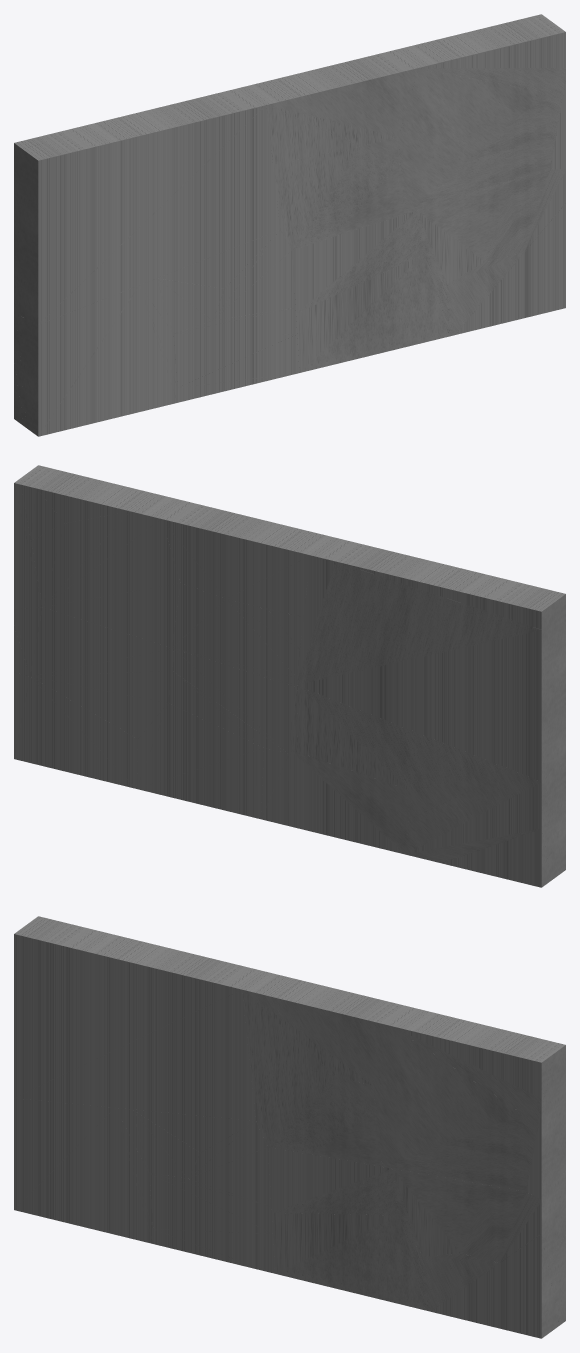
File: BreakableConcrete_broken.fbx
3 renders of one model, top to bottom at view 1: azimuth 30°, elevation 25°; view 2: azimuth 150°, elevation 25°; view 3: azimuth 330°, elevation 25°, orthographic.
Parts seen in each view (by area): view 1: BeakedBreakableConcrete_cell.003, BeakedBreakableConcrete_cell.001_cell.002, BeakedBreakableConcrete_cell.007_cell.007, BeakedBreakableConcrete_cell.007_cell.004, BeakedBreakableConcrete_cell.004_cell, BeakedBreakableConcrete_cell.007_cell.006, BeakedBreakableConcrete_cell.004_cell.002, BeakedBreakableConcrete_cell.005, BeakedBreakableConcrete_cell.004_cell.007, BeakedBreakableConcrete_cell.001_cell.003, BeakedBreakableConcrete_cell.007_cell, BeakedBreakableConcrete_cell.004_cell.004 (+10 smaller); view 2: BeakedBreakableConcrete_cell.003, BeakedBreakableConcrete_cell.007_cell.007, BeakedBreakableConcrete_cell.004_cell.007, BeakedBreakableConcrete_cell.007_cell.004, BeakedBreakableConcrete_cell.004_cell, BeakedBreakableConcrete_cell.004_cell.005, BeakedBreakableConcrete_cell.001_cell.003, BeakedBreakableConcrete_cell.001_cell.001, BeakedBreakableConcrete_cell.001_cell.007, BeakedBreakableConcrete_cell.007_cell.001, BeakedBreakableConcrete_cell.004_cell.006, BeakedBreakableConcrete_cell.001_cell.002 (+9 smaller); view 3: BeakedBreakableConcrete_cell.003, BeakedBreakableConcrete_cell.007_cell.007, BeakedBreakableConcrete_cell.001_cell.002, BeakedBreakableConcrete_cell.007_cell.004, BeakedBreakableConcrete_cell.004_cell, BeakedBreakableConcrete_cell.007_cell.006, BeakedBreakableConcrete_cell.004_cell.002, BeakedBreakableConcrete_cell.005, BeakedBreakableConcrete_cell.004_cell.004, BeakedBreakableConcrete_cell.004_cell.007, BeakedBreakableConcrete_cell.001_cell.003, BeakedBreakableConcrete_cell.007_cell (+9 smaller).
Boxes of the visible parts, <box> form: BeakedBreakableConcrete_cell.003: <box>14,86,280,324</box>; BeakedBreakableConcrete_cell.001_cell.002: <box>16,285,177,436</box>; BeakedBreakableConcrete_cell.007_cell.007: <box>394,42,561,213</box>; BeakedBreakableConcrete_cell.007_cell.004: <box>245,50,418,164</box>; BeakedBreakableConcrete_cell.004_cell: <box>296,254,448,372</box>; BeakedBreakableConcrete_cell.007_cell.006: <box>417,19,565,92</box>; BeakedBreakableConcrete_cell.004_cell.002: <box>292,211,422,313</box>; BeakedBreakableConcrete_cell.005: <box>455,203,565,334</box>; BeakedBreakableConcrete_cell.004_cell.007: <box>417,181,510,283</box>; BeakedBreakableConcrete_cell.001_cell.003: <box>173,307,297,387</box>; BeakedBreakableConcrete_cell.007_cell: <box>286,137,399,249</box>; BeakedBreakableConcrete_cell.004_cell.004: <box>485,168,565,261</box>; BeakedBreakableConcrete_cell.003: <box>296,538,565,781</box>; BeakedBreakableConcrete_cell.007_cell.007: <box>31,502,182,647</box>; BeakedBreakableConcrete_cell.004_cell.007: <box>14,607,173,738</box>; BeakedBreakableConcrete_cell.007_cell.004: <box>161,501,337,616</box>; BeakedBreakableConcrete_cell.004_cell: <box>136,703,263,819</box>; BeakedBreakableConcrete_cell.004_cell.005: <box>14,672,137,788</box>; BeakedBreakableConcrete_cell.001_cell.003: <box>287,751,410,854</box>; BeakedBreakableConcrete_cell.001_cell.001: <box>405,770,553,879</box>; BeakedBreakableConcrete_cell.001_cell.007: <box>297,686,443,790</box>; BeakedBreakableConcrete_cell.007_cell.001: <box>172,583,296,686</box>; BeakedBreakableConcrete_cell.004_cell.006: <box>172,649,294,754</box>; BeakedBreakableConcrete_cell.001_cell.002: <box>409,743,565,878</box>; BeakedBreakableConcrete_cell.003: <box>14,922,268,1120</box>; BeakedBreakableConcrete_cell.007_cell.007: <box>374,1009,537,1186</box>; BeakedBreakableConcrete_cell.001_cell.002: <box>14,1098,153,1243</box>; BeakedBreakableConcrete_cell.007_cell.004: <box>242,972,417,1085</box>; BeakedBreakableConcrete_cell.004_cell: <box>271,1213,424,1310</box>; BeakedBreakableConcrete_cell.007_cell.006: <box>394,1016,555,1113</box>; BeakedBreakableConcrete_cell.004_cell.002: <box>268,1147,398,1215</box>; BeakedBreakableConcrete_cell.005: <box>431,1234,559,1338</box>; BeakedBreakableConcrete_cell.004_cell.004: <box>461,1174,565,1262</box>; BeakedBreakableConcrete_cell.004_cell.007: <box>392,1168,565,1256</box>; BeakedBreakableConcrete_cell.001_cell.003: <box>149,1173,272,1233</box>; BeakedBreakableConcrete_cell.007_cell: <box>262,1077,375,1154</box>.
Size of the model in its own units: 104 by 8.32 by 52.
